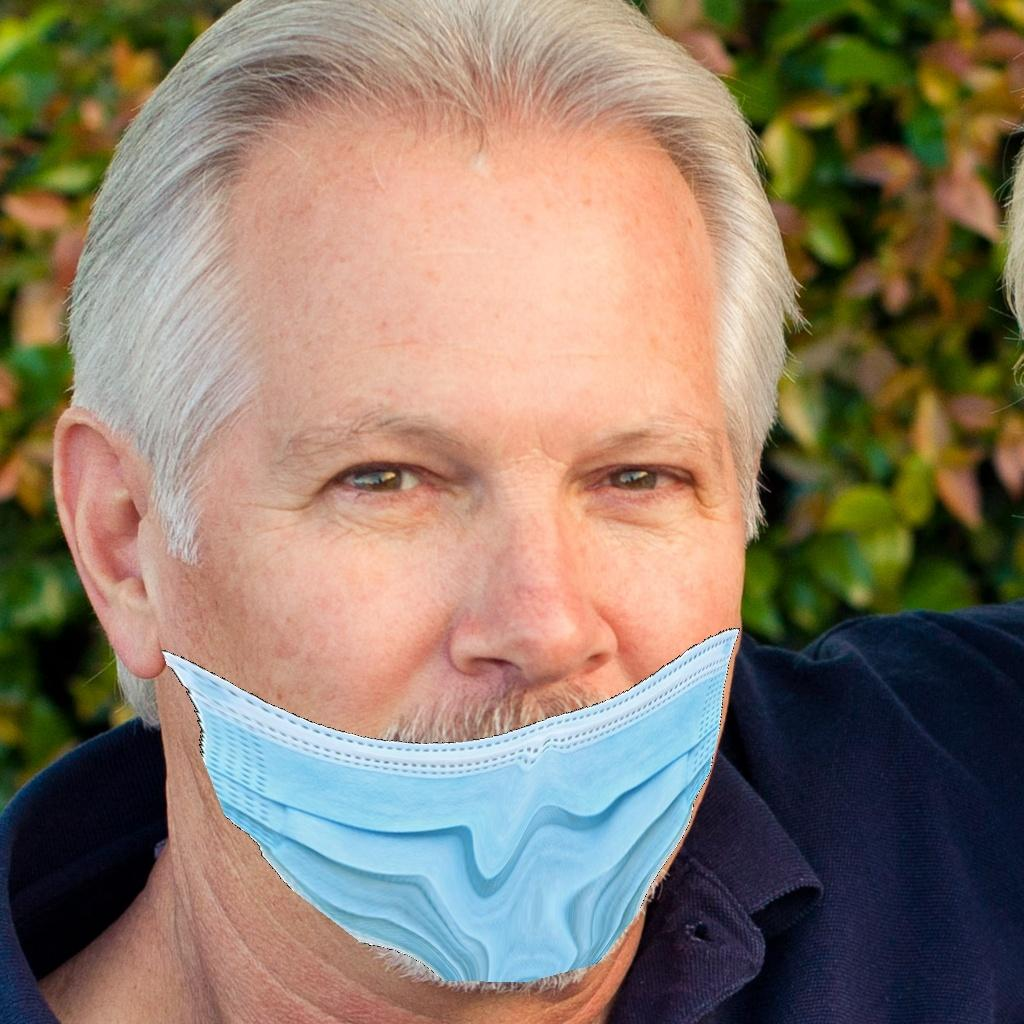Máscara Incorreta: (173, 232, 738, 955)
